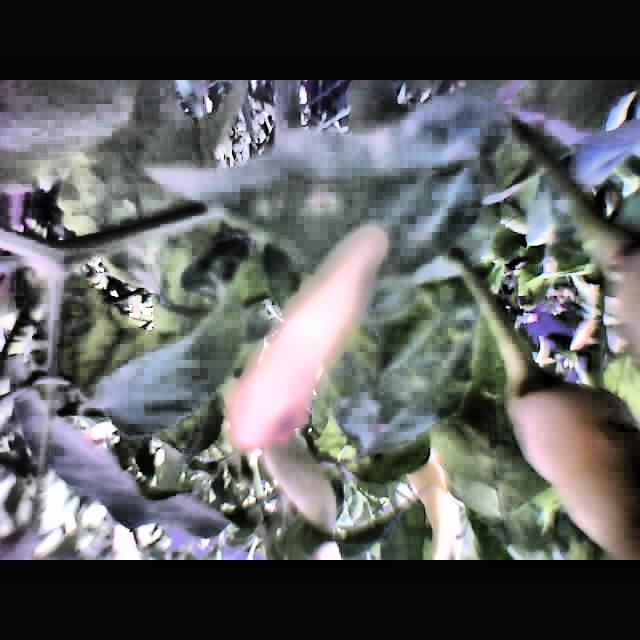Cabai: (215, 232, 369, 462)
